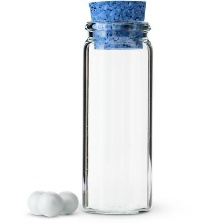bottle: (78, 17, 163, 218)
